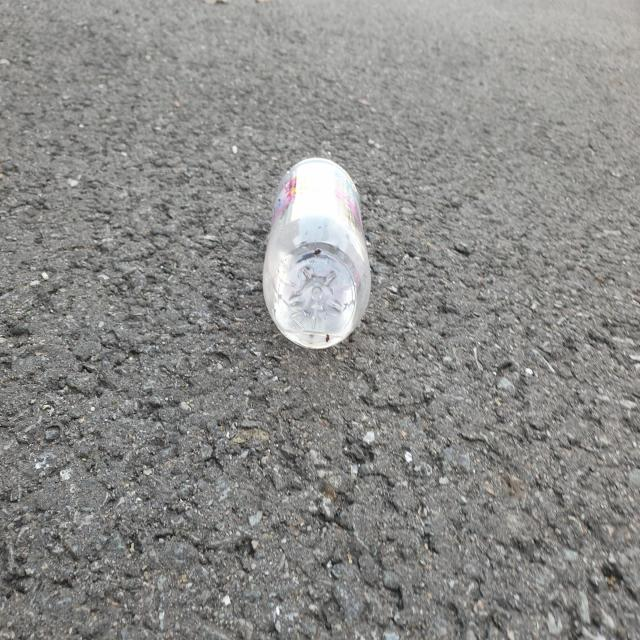plastic: (263, 157, 371, 348)
